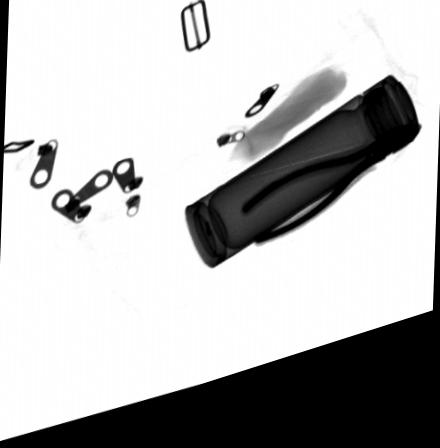Pliers: (237, 146, 423, 262)
